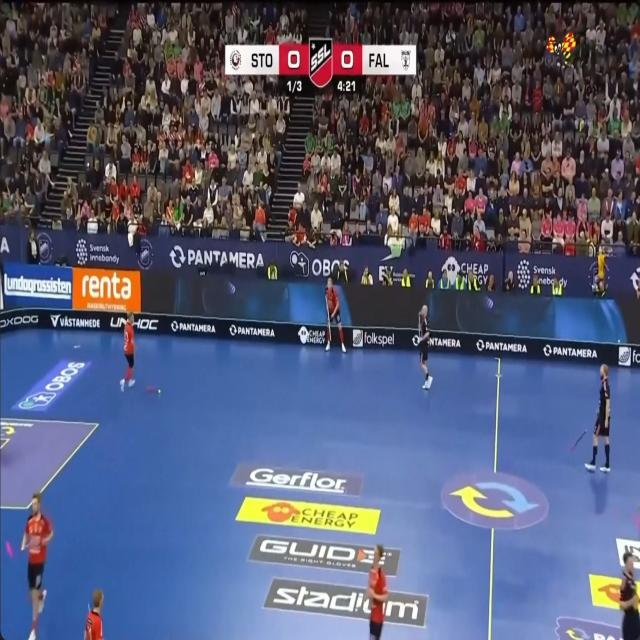Balls: (158, 389, 161, 393)
player: (22, 494, 53, 639), (585, 364, 609, 472), (367, 544, 387, 639), (620, 552, 640, 639), (325, 277, 345, 352), (418, 304, 432, 389), (120, 312, 134, 390), (84, 588, 103, 639)
stick: (325, 290, 331, 343), (571, 431, 586, 450)
